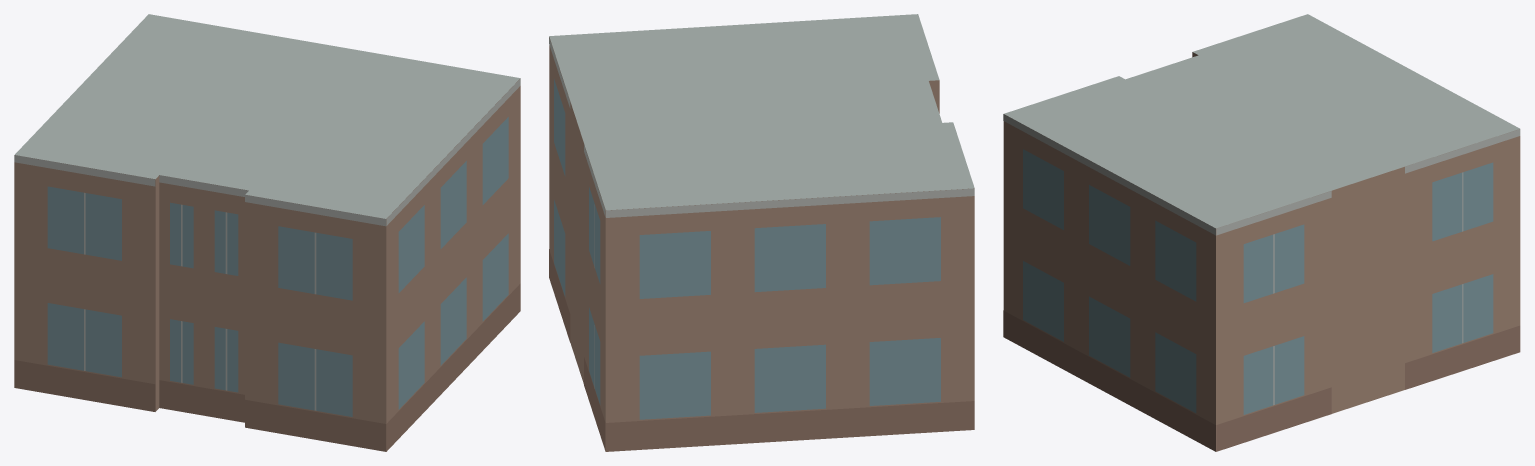
Rendered from survey-upis-32913560.glb.
3 views of the same model, side by side, from view 1: azimuth 30°, elevation 25°; view 2: azimuth 150°, elevation 25°; view 3: azimuth 270°, elevation 25° (orthographic). The views are drawn at different scales.
Parts seen in each view (by area): view 1: survey-upis-32913560.tmp; view 2: survey-upis-32913560.tmp; view 3: survey-upis-32913560.tmp.
Part boxes in pixels (<box>): survey-upis-32913560.tmp: <box>14,14,520,451</box>; survey-upis-32913560.tmp: <box>549,14,974,451</box>; survey-upis-32913560.tmp: <box>1003,14,1520,451</box>.
Bounding box in the file's own units: 15.87 × 7.7 × 16.15.
